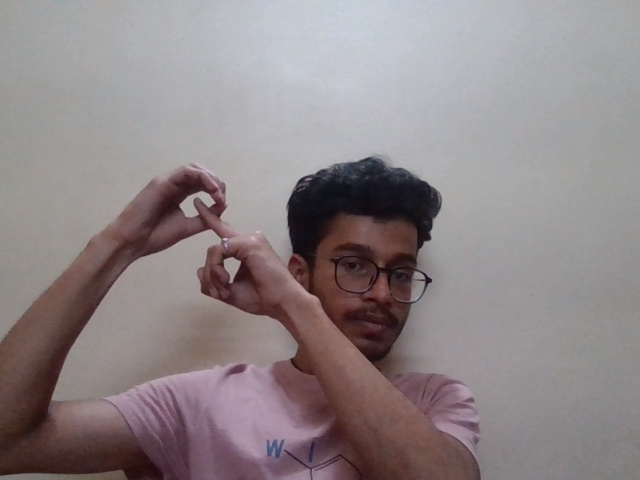Q: (77, 155, 331, 346)
